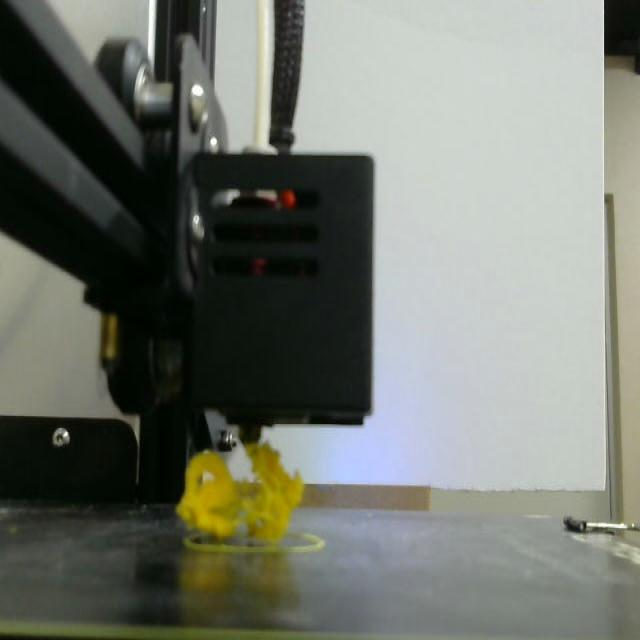spaghetti: (170, 441, 315, 553)
